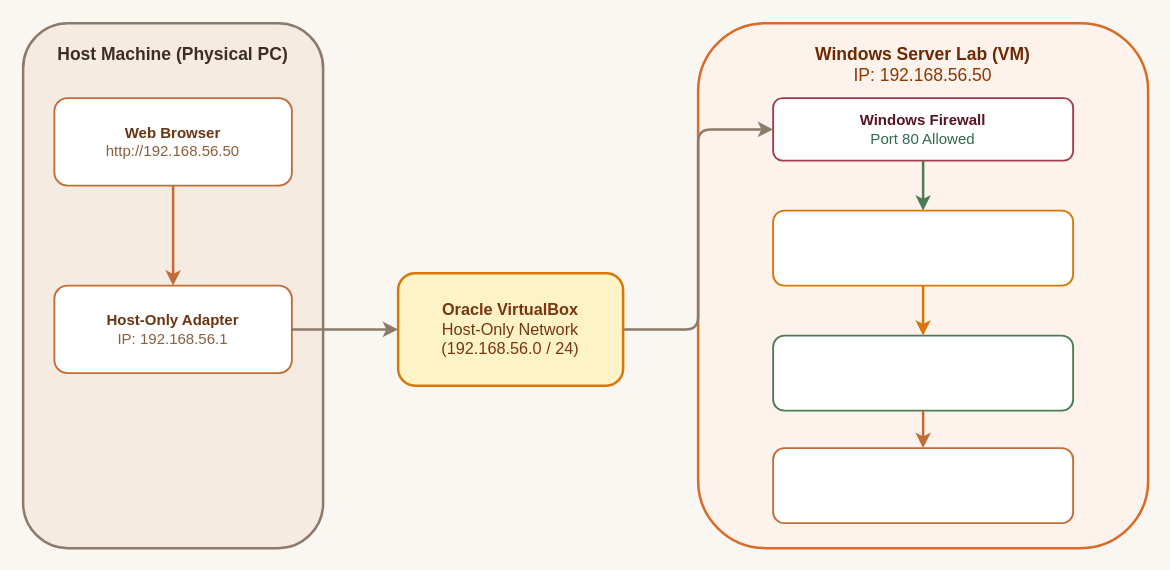
This 1170x570 diagram has some shape labels left out. The shapes that lost their labels are listed below. From the top down, each one's centre as x and y in pixels, then its label:
point (923, 247): IIS Web Server Port 80 (Reverse Proxy)
point (923, 372): Next.js Web App (Node.js) Port 3000
point (923, 485): PostgreSQL Database Port 5432 (salarizedb)
